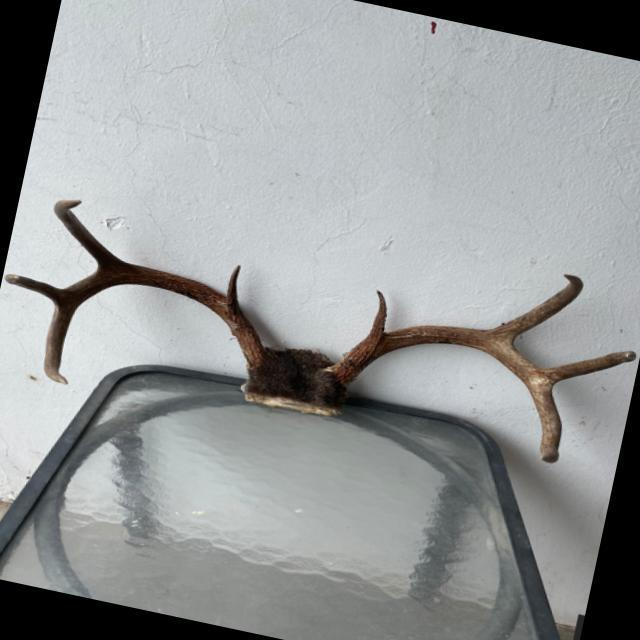L-F: (323, 325, 562, 463)
L-G1: (366, 289, 387, 337)
L-G2: (480, 273, 583, 347)
L-G3: (539, 350, 637, 388)
R-F: (43, 263, 264, 385)
R-G1: (225, 264, 241, 307)
R-G2: (52, 199, 126, 271)
R-G3: (3, 273, 63, 305)
